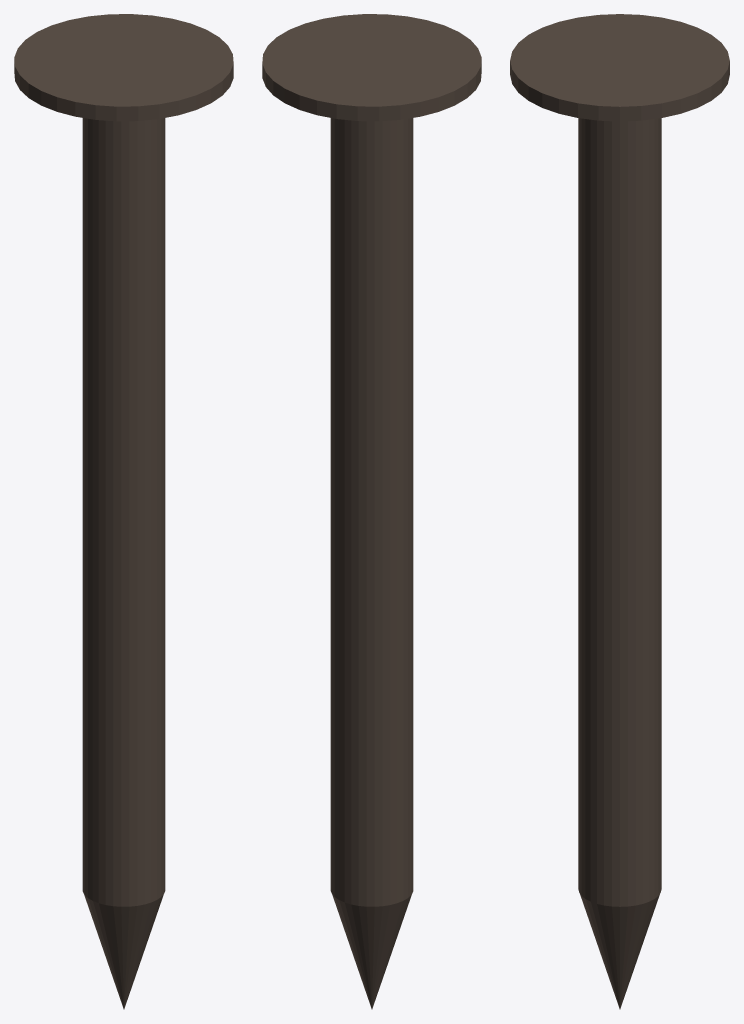
The model's file is prego.fbx.
The picture shows the model from 3 angles, left to right: view 1: azimuth 30°, elevation 25°; view 2: azimuth 150°, elevation 25°; view 3: azimuth 270°, elevation 25°; orthographic projection.
Visible parts, largest first — view 1: Cilindro; view 2: Cilindro; view 3: Cilindro.
Boxes of the visible parts, box(x1,y1,x2,y2) form: Cilindro: box(14, 14, 233, 1009); Cilindro: box(262, 14, 481, 1009); Cilindro: box(510, 14, 729, 1009).
Size of the model in its own units: 0.7188 by 3.43 by 0.7188.
